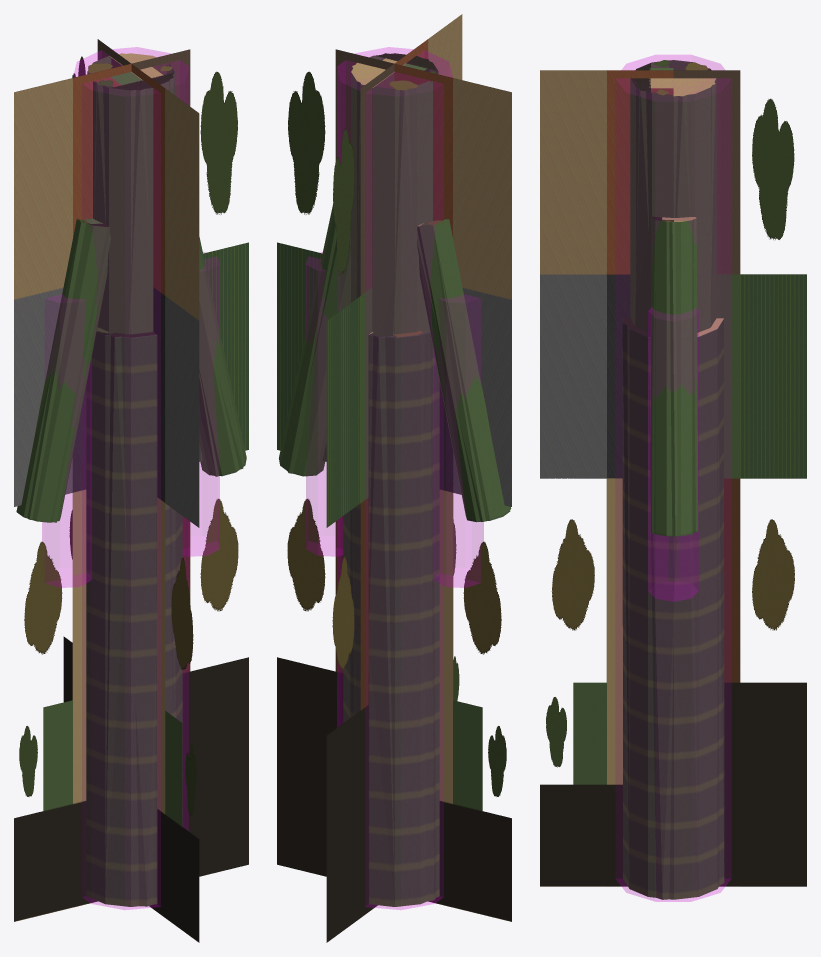
File: saguaro_armed.dae
The picture shows the model from 3 angles, left to right: view 1: azimuth 30°, elevation 25°; view 2: azimuth 150°, elevation 25°; view 3: azimuth 270°, elevation 25°; orthographic projection.
Visible parts, largest first — view 1: saguaro_armed_a50, saguaro_armed_a800, Colmesh_trunk-1, saguaro_armed_a200, Colmesh_arm0-1, Colmesh_arm1-1; view 2: saguaro_armed_a50, saguaro_armed_a800, Colmesh_trunk-1, saguaro_armed_a200, Colmesh_arm0-1, Colmesh_arm1-1; view 3: saguaro_armed_a50, Colmesh_trunk-1, saguaro_armed_a800, saguaro_armed_a200, Colmesh_arm1-1.
Part boxes in pixels (x1,y1,x2,y2): saguaro_armed_a50: [14, 39, 248, 942]; saguaro_armed_a800: [16, 53, 246, 906]; Colmesh_trunk-1: [73, 47, 188, 909]; saguaro_armed_a200: [27, 53, 243, 906]; Colmesh_arm0-1: [42, 295, 91, 587]; Colmesh_arm1-1: [183, 252, 219, 556]; saguaro_armed_a50: [277, 14, 511, 942]; saguaro_armed_a800: [279, 53, 510, 906]; Colmesh_trunk-1: [337, 47, 452, 909]; saguaro_armed_a200: [288, 53, 511, 905]; Colmesh_arm0-1: [434, 295, 483, 587]; Colmesh_arm1-1: [306, 252, 342, 556]; saguaro_armed_a50: [540, 70, 806, 886]; Colmesh_trunk-1: [616, 55, 730, 901]; saguaro_armed_a800: [623, 60, 723, 899]; saguaro_armed_a200: [622, 60, 724, 899]; Colmesh_arm1-1: [648, 307, 698, 601].
Bounding box in the file's own units: 1.45 × 1.45 × 4.9.
Materials: 2 (1 with a texture image).
